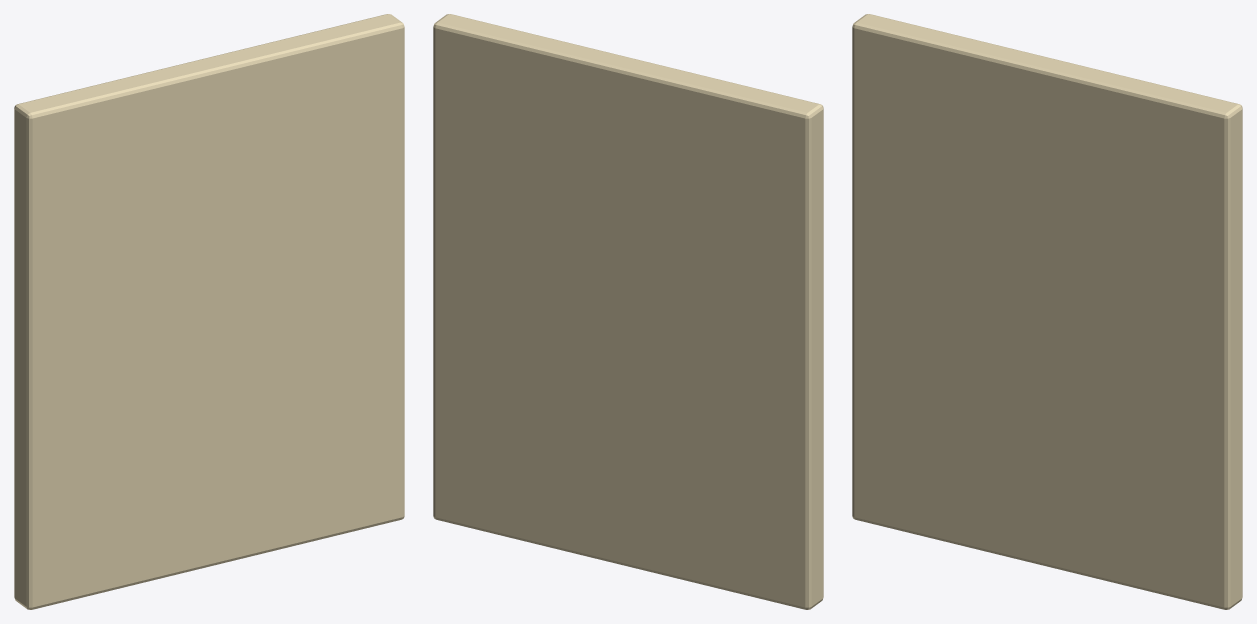
The model's file is wall_plain_2m__finish.glb.
3 views of the same model, side by side, from view 1: azimuth 30°, elevation 25°; view 2: azimuth 150°, elevation 25°; view 3: azimuth 330°, elevation 25° (orthographic).
Parts seen in each view (by area): view 1: wall_plain_2m__finish__mesh_00; view 2: wall_plain_2m__finish__mesh_00; view 3: wall_plain_2m__finish__mesh_00.
Boxes of the visible parts, x1=… form: wall_plain_2m__finish__mesh_00: x1=14, y1=14, x2=404, y2=609; wall_plain_2m__finish__mesh_00: x1=433, y1=14, x2=823, y2=609; wall_plain_2m__finish__mesh_00: x1=852, y1=14, x2=1242, y2=609.
Bounding box in the file's own units: 1.75 × 2.2 × 0.13.
